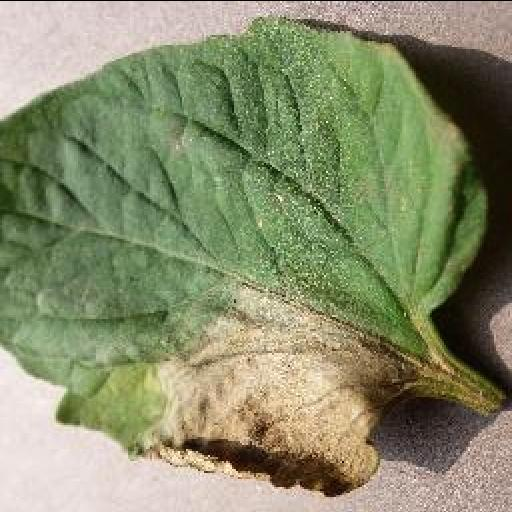disease_tomato: (0, 10, 486, 496)
